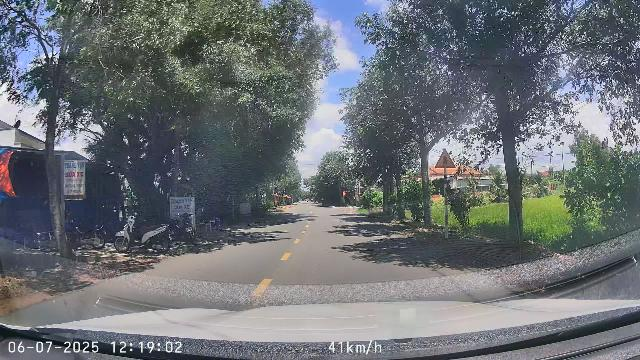207-giao-nhau-voi-duong-khong-uu-tien: (435, 150, 456, 169)
